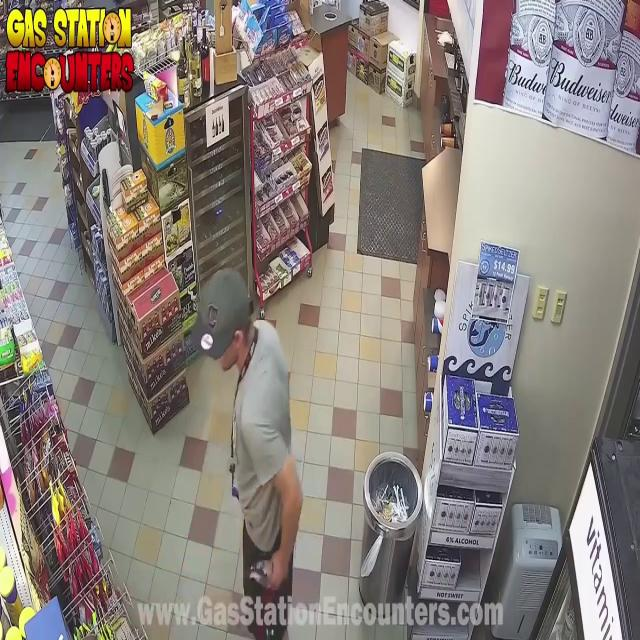Product: (245, 554, 281, 603)
shoplifting: (146, 281, 341, 640)
